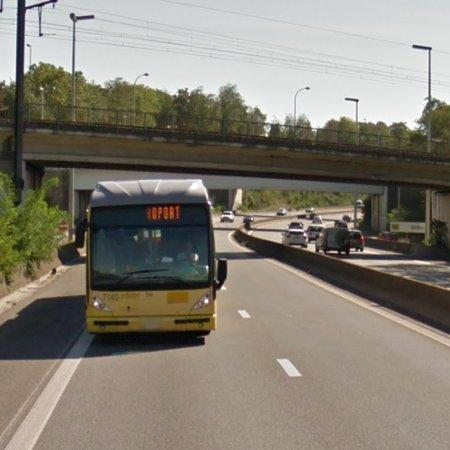buses: (86, 182, 227, 336)
